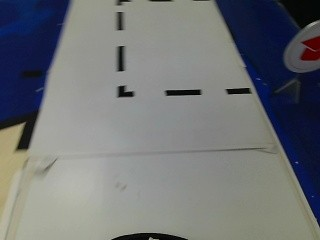school: (279, 17, 320, 78)
